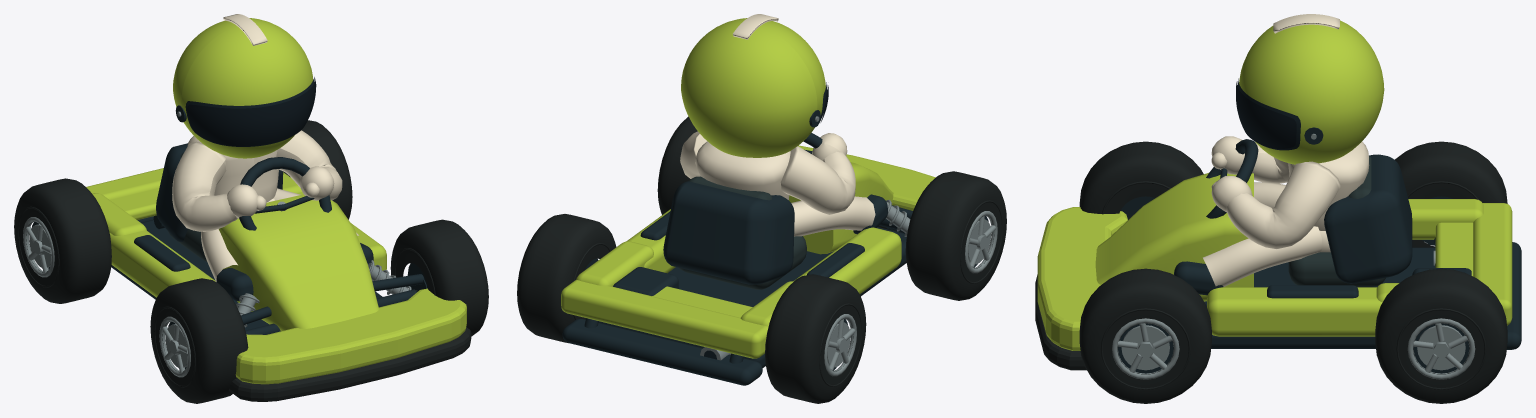
File: club-kart.glb
3 views of the same model, side by side, from view 1: azimuth 30°, elevation 25°; view 2: azimuth 150°, elevation 25°; view 3: azimuth 270°, elevation 25° (orthographic). The views are drawn at different scales.
Visible parts, largest first — view 1: kart-model-detail-batch (×4), driver-detail-batch (×2), helmet, wheel-spin-rear-left-detail-batch (×2), wheel-spin-front-left-detail-batch (×2), wheel-spin-front-right-detail-batch, visor, front-bumper-rubber, steering-wheel-detail-batch, wheel-spin-rear-right-detail-batch; view 2: kart-model-detail-batch (×4), helmet, driver-detail-batch (×2), wheel-spin-front-left-detail-batch (×2), wheel-spin-rear-left-detail-batch (×2), wheel-spin-rear-right-detail-batch, wheel-spin-front-right-detail-batch; view 3: kart-model-detail-batch (×3), driver-detail-batch (×2), wheel-spin-rear-right-detail-batch (×3), wheel-spin-front-right-detail-batch (×3), helmet, wheel-spin-front-left-detail-batch, wheel-spin-rear-left-detail-batch, visor, front-bumper-rubber, steering-wheel-detail-batch.
Boxes of the visible parts, bbox=[...] form: kart-model-detail-batch (×4): bbox=[86, 143, 466, 384]; driver-detail-batch (×2): bbox=[172, 14, 373, 301]; helmet: bbox=[173, 18, 313, 158]; wheel-spin-rear-left-detail-batch (×2): bbox=[14, 178, 111, 303]; wheel-spin-front-left-detail-batch (×2): bbox=[150, 278, 248, 403]; wheel-spin-front-right-detail-batch: bbox=[390, 219, 488, 336]; visor: bbox=[187, 79, 316, 146]; front-bumper-rubber: bbox=[228, 327, 471, 401]; steering-wheel-detail-batch: bbox=[239, 157, 331, 230]; wheel-spin-rear-right-detail-batch: bbox=[286, 120, 352, 219]; kart-model-detail-batch (×4): bbox=[561, 145, 935, 385]; helmet: bbox=[681, 18, 825, 157]; driver-detail-batch (×2): bbox=[680, 14, 887, 236]; wheel-spin-front-left-detail-batch (×2): bbox=[905, 171, 1006, 300]; wheel-spin-rear-left-detail-batch (×2): bbox=[765, 274, 866, 403]; wheel-spin-rear-right-detail-batch: bbox=[517, 214, 616, 343]; wheel-spin-front-right-detail-batch: bbox=[657, 116, 697, 214]; kart-model-detail-batch (×3): bbox=[1037, 154, 1521, 350]; driver-detail-batch (×2): bbox=[1174, 14, 1369, 295]; wheel-spin-rear-right-detail-batch (×3): bbox=[1375, 268, 1507, 403]; wheel-spin-front-right-detail-batch (×3): bbox=[1079, 268, 1211, 403]; helmet: bbox=[1239, 20, 1384, 164]; wheel-spin-front-left-detail-batch: bbox=[1079, 141, 1203, 214]; wheel-spin-rear-left-detail-batch: bbox=[1395, 141, 1507, 247]; visor: bbox=[1236, 82, 1296, 148]; front-bumper-rubber: bbox=[1035, 274, 1086, 370]; steering-wheel-detail-batch: bbox=[1206, 139, 1258, 218].
Bounding box in the file's own units: 2.88 × 2.73 × 3.82.
